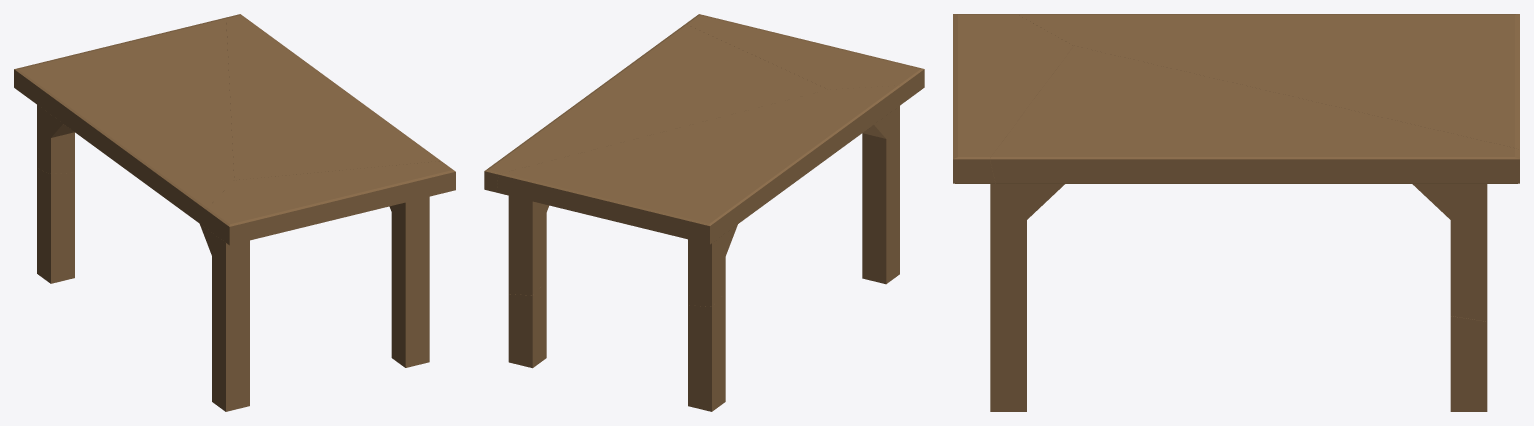
The model's file is mesaMadera.fbx.
3 renders of one model, left to right at view 1: azimuth 30°, elevation 25°; view 2: azimuth 150°, elevation 25°; view 3: azimuth 270°, elevation 25°, orthographic. The views are drawn at different scales.
Parts seen in each view (by area): view 1: mesa.001_cell, mesa.001_cell.002, mesa.001_cell.001, mesa_cell.005, mesa_cell.002, mesa_cell.003, mesa_cell.004; view 2: mesa.001_cell, mesa.001_cell.002, mesa.001_cell.001, mesa_cell.005, mesa_cell.003, mesa_cell.001, mesa_cell, mesa_cell.004; view 3: mesa.001_cell.002, mesa.001_cell, mesa.001_cell.001, mesa_cell.002, mesa_cell.001, mesa_cell.
Boxes of the visible parts, x1,y1,x2,y2 form: mesa.001_cell: (14, 17, 234, 227); mesa.001_cell.002: (226, 14, 440, 180); mesa.001_cell.001: (206, 161, 455, 245); mesa_cell.005: (200, 224, 249, 411); mesa_cell.002: (389, 196, 429, 367); mesa_cell.003: (37, 168, 74, 283); mesa_cell.004: (37, 105, 74, 173); mesa.001_cell: (496, 85, 901, 244); mesa.001_cell.002: (484, 24, 827, 192); mesa.001_cell.001: (685, 14, 924, 104); mesa_cell.005: (862, 106, 899, 284); mesa_cell.003: (688, 293, 725, 411); mesa_cell.001: (508, 195, 549, 295); mesa_cell: (508, 281, 546, 368); mesa_cell.004: (688, 224, 737, 306); mesa.001_cell.002: (990, 46, 1519, 183); mesa.001_cell: (1015, 14, 1519, 149); mesa.001_cell.001: (953, 14, 1073, 183); mesa_cell.002: (990, 184, 1064, 411); mesa_cell.001: (1412, 184, 1487, 321); mesa_cell: (1450, 316, 1487, 411).
Size of the model in its own units: 240 by 202 by 396.
